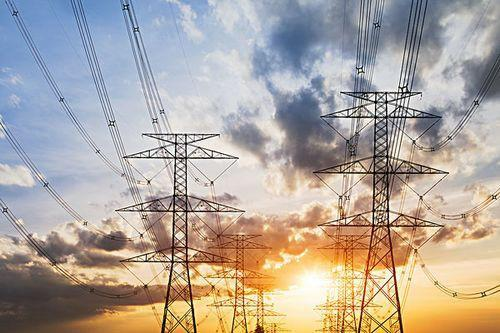power_tower: (319, 84, 457, 333), (120, 116, 240, 333), (206, 221, 275, 333), (318, 231, 375, 333)
